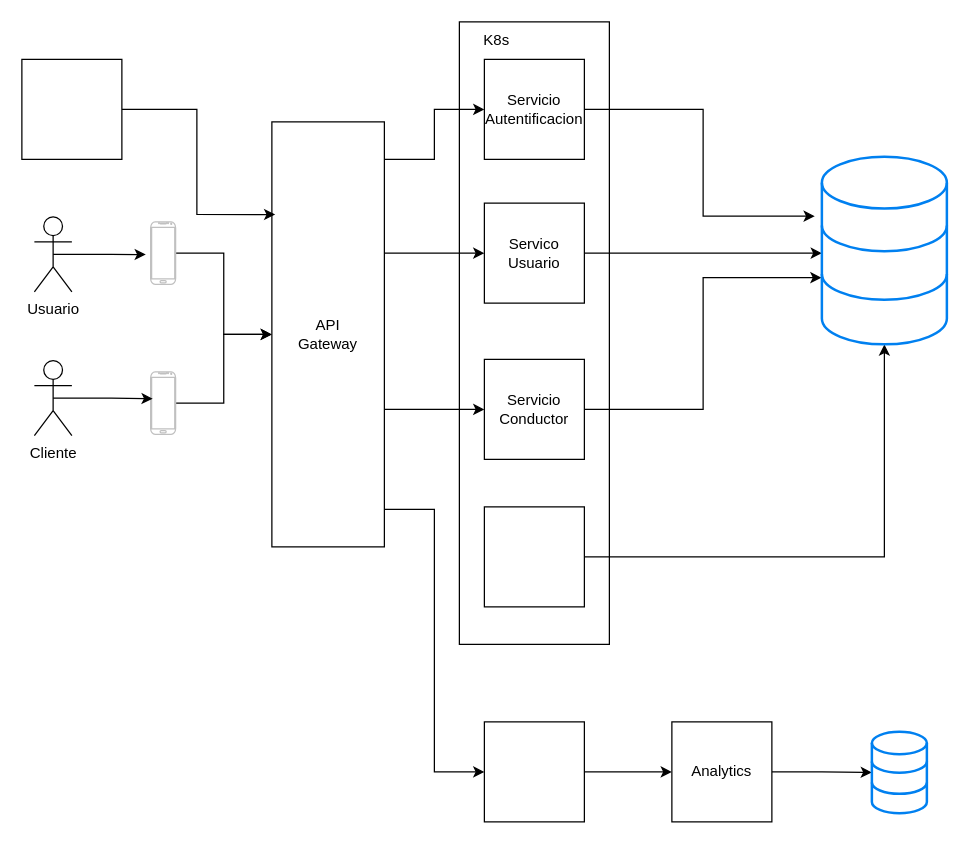
Image size: 970x844. Some labels were removed from this diagram. The shapes that lost their labels are listed below. From the top down, each one's centre as x and y in pixels, then its label:
(x=71, y=108): Frontend Web
(x=533, y=556): WebSocket Service
(x=533, y=771): Servicio Kafka
